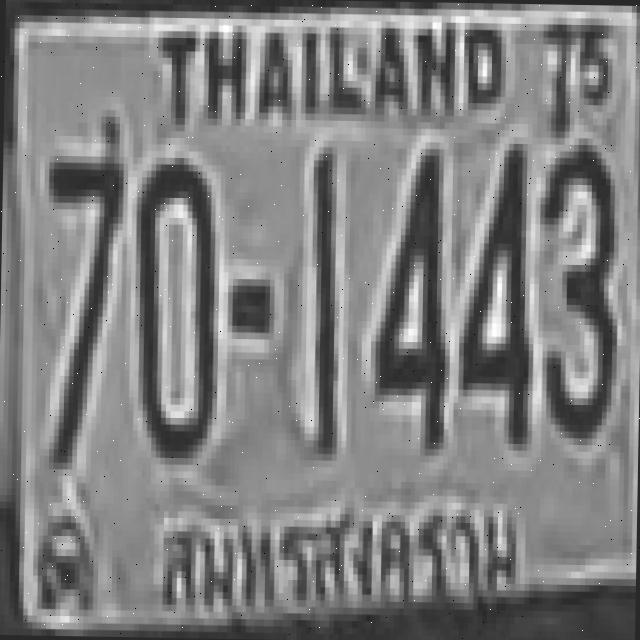0: (137, 153, 221, 454)
1: (308, 150, 342, 437)
3: (536, 140, 615, 436)
4: (369, 141, 448, 449), (457, 136, 532, 444)
7: (47, 148, 126, 456)
SamutSongkhram: (142, 486, 533, 624)
